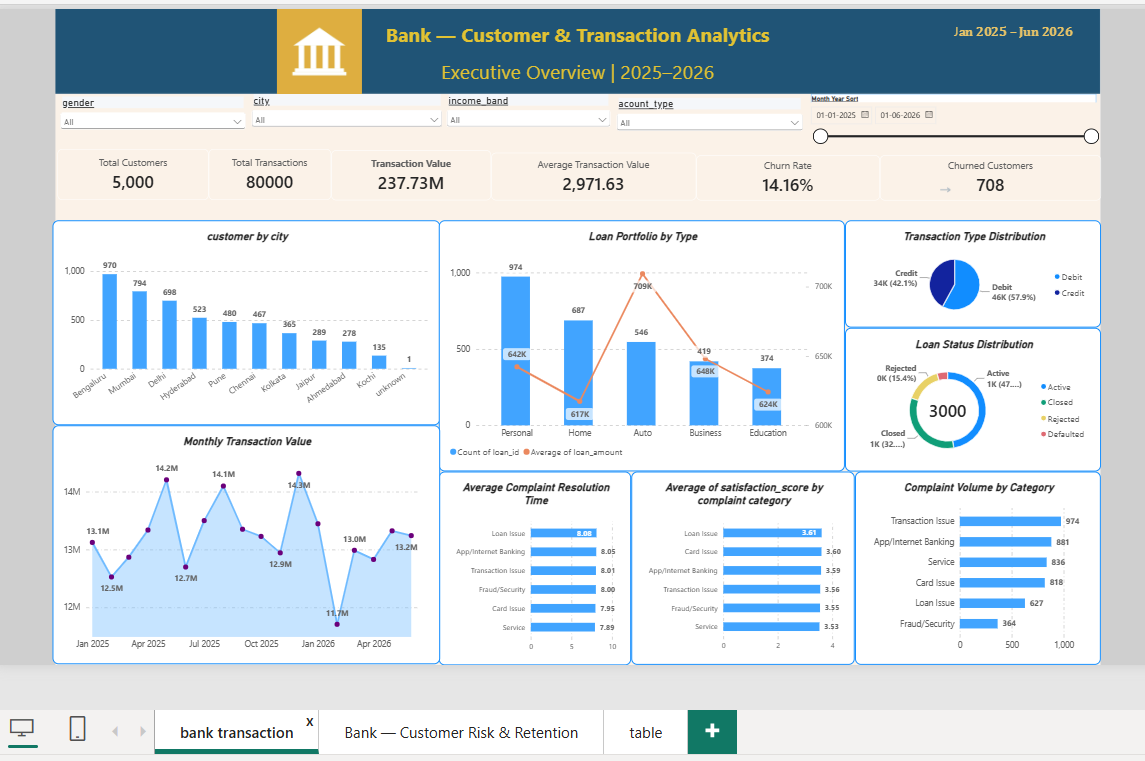

What the dashboard file says about the page in this screenshot:
{"tool":"powerbi","page":{"name":"bank transaction ","canvas":[1920,1080],"ordinal":0},"visuals":[{"type":"clusteredColumnChart","title":"customer by city","fields":{"Category":["customers.city"],"Y":["CountNonNull(customers.customer_id)"]},"box":[95.6,384.4,634.5,301.6],"z":0},{"type":"pieChart","title":"Transaction Type Distribution","fields":{"Category":["transactions1.transaction_type"],"Y":["CountNonNull(transactions1.transaction_id)"]},"box":[1233.7,241.6,588,209.5],"z":1000},{"type":"lineClusteredColumnComboChart","title":"Loan Portfolio by Type","fields":{"Category":["loan1.loan_type"],"Y":["CountNonNull(loan1.loan_id)"],"Y2":["Avg(loan1.loan_amount)"]},"box":[1047.7,449,774,312.2],"z":2000},{"type":"donutChart","title":"Loan Status Distribution","fields":{"Category":["loan1.loan_status"],"Y":["CountNonNull(loan1.loan_id)"]},"box":[731.2,384.9,327.1,301.5],"z":3000},{"type":"clusteredBarChart","title":"Complaint Volume by Category","fields":{"Category":["complaint.category"],"Y":["CountNonNull(complaint.complaint_id)"]},"box":[1416.1,761.4,404.6,318.2],"z":4000},{"type":"clusteredBarChart","title":"Average of satisfaction_score by complaint category","fields":{"Category":["complaint.category"],"Y":["Avg(complaint.satisfaction_score)"]},"box":[1048.3,761.4,367.8,318.2],"z":5000},{"type":"clusteredBarChart","title":"Average Complaint Resolution Time","fields":{"Category":["complaint.category"],"Y":["Avg(complaint.resolution_days)"]},"box":[731.2,686.3,316.4,393.4],"z":6000},{"type":"lineChart","title":"Monthly Transaction Value","fields":{"Category":["transactions1.Month Year Sort.Variation.Date Hierarchy.Year","transactions1.Month Year Sort.Variation.Date Hierarchy.Quarter","transactions1.Month Year Sort.Variation.Date Hierarchy.Month","transactions1.Month Year Sort.Variation.Date Hierarchy.Day"],"Y":["Sum(transactions1.amount)"]},"box":[95.6,686,638.2,393.6],"z":7000},{"type":"cardVisual","fields":{"Data":["customers.Total Customers"]},"box":[102.6,305.7,174.7,80.9],"z":8000},{"type":"cardVisual","fields":{"Data":["customers.Total Transaction Value"]},"box":[468.2,310,277.9,76.2],"z":9000},{"type":"cardVisual","fields":{"Data":["customers.Average Transaction Value"]},"box":[746.2,310,323.2,76.2],"z":10000},{"type":"cardVisual","fields":{"Data":["customers.Total Transactions"]},"box":[278,310,189.4,77.2],"z":11000},{"type":"cardVisual","fields":{"Data":["customers.Churned Customers"]},"box":[1056.2,378.4,176.6,71.7],"z":12000},{"type":"cardVisual","fields":{"Data":["customers.Churn Rate"]},"box":[1069,312.2,164.6,68.4],"z":13000},{"type":"slicer","fields":{"Values":["transactions1.Month Year Sort"]},"box":[1335.2,139.8,485.5,97.5],"z":14000},{"type":"slicer","fields":{"Values":["customers.gender"]},"box":[168.9,143.3,314.5,90.1],"z":15000},{"type":"slicer","fields":{"Values":["customers.city"]},"box":[417.5,139.8,323.7,90.1],"z":16000},{"type":"slicer","fields":{"Values":["customers.income_band"]},"box":[739.3,139.8,279.5,90.1],"z":17000},{"type":"slicer","fields":{"Values":["accountss.acount_type"]},"box":[1018.9,147.1,316.3,82.8],"z":18000},{"type":"textbox","box":[96.2,21.4,1725.4,117.6],"z":19000},{"type":"textbox","box":[1695.5,21.4,109,59.9],"z":19003}]}

Visuals, with their boxes on the page's 1920x1080 design canvas (x1, y1, x2, y2). These are canvas units, not pixel positions in the 1145x761 screenshot, which may show the page scaled, cropped or inside an application window:
"customer by city" clusteredColumnChart: bbox(96, 384, 730, 686)
"Transaction Type Distribution" pieChart: bbox(1234, 242, 1822, 451)
"Loan Portfolio by Type" lineClusteredColumnComboChart: bbox(1048, 449, 1822, 761)
"Loan Status Distribution" donutChart: bbox(731, 385, 1058, 686)
"Complaint Volume by Category" clusteredBarChart: bbox(1416, 761, 1821, 1080)
"Average of satisfaction_score by complaint category" clusteredBarChart: bbox(1048, 761, 1416, 1080)
"Average Complaint Resolution Time" clusteredBarChart: bbox(731, 686, 1048, 1080)
"Monthly Transaction Value" lineChart: bbox(96, 686, 734, 1080)
cardVisual - customers.Total Customers: bbox(103, 306, 277, 387)
cardVisual - customers.Total Transaction Value: bbox(468, 310, 746, 386)
cardVisual - customers.Average Transaction Value: bbox(746, 310, 1069, 386)
cardVisual - customers.Total Transactions: bbox(278, 310, 467, 387)
cardVisual - customers.Churned Customers: bbox(1056, 378, 1233, 450)
cardVisual - customers.Churn Rate: bbox(1069, 312, 1234, 381)
slicer - transactions1.Month Year Sort: bbox(1335, 140, 1821, 237)
slicer - customers.gender: bbox(169, 143, 483, 233)
slicer - customers.city: bbox(418, 140, 741, 230)
slicer - customers.income_band: bbox(739, 140, 1019, 230)
slicer - accountss.acount_type: bbox(1019, 147, 1335, 230)
textbox: bbox(96, 21, 1822, 139)
textbox: bbox(1696, 21, 1804, 81)
